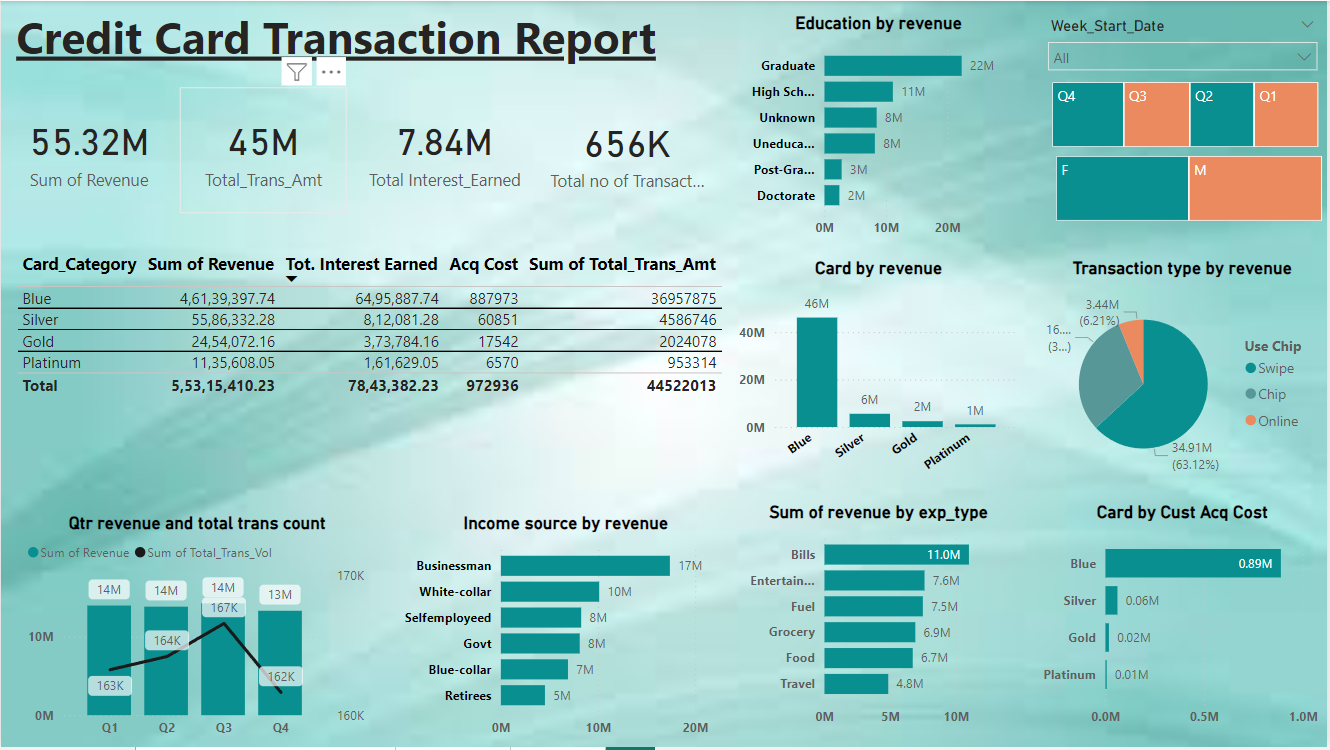

Layout of this report page (visuals, bound fields, positions):
{"tool":"powerbi","page":{"name":"Credit Card Transaction Report","canvas":[1280,720],"ordinal":0},"visuals":[{"type":"textbox","box":[9.8,0,675.8,70],"z":0},{"type":"lineStackedColumnComboChart","title":"Qtr revenue and total trans count","fields":{"Category":["credit_card.Qtr"],"Y":["Sum(credit_card.Revenue)"],"Y2":["Sum(credit_card.Total_Trans_Vol)"]},"box":[20.9,493.9,337.9,226.1],"z":1000},{"type":"barChart","title":"Sum of revenue by exp_type","fields":{"Category":["credit_card.Exp Type"],"Y":["Sum(credit_card.Total_Trans_Amt)"]},"box":[706.5,482.9,280.1,226.1],"z":2000},{"type":"barChart","title":"Education by revenue","fields":{"Y":["Sum(credit_card.Revenue)"],"Category":["customer.Education_Level"]},"box":[706.5,11.1,280.1,226.1],"z":3000},{"type":"barChart","title":"Income source by revenue","fields":{"Y":["Sum(credit_card.Revenue)"],"Category":["customer.Customer_Job"]},"box":[383.3,493.9,323.1,226.1],"z":4000},{"type":"barChart","title":"Card by Cust Acq Cost","fields":{"Y":["Sum(credit_card.Customer_Acq_Cost)"],"Category":["credit_card.Card_Category"]},"box":[1000.1,482.9,280.1,226.1],"z":5000},{"type":"columnChart","title":"Card by revenue","fields":{"Category":["credit_card.Card_Category"],"Y":["Sum(credit_card.Revenue)"]},"box":[706.5,247,280.1,226.1],"z":6000},{"type":"pieChart","title":"Transaction type by revenue","fields":{"Category":["credit_card.Use Chip"],"Y":["Sum(credit_card.Revenue)"]},"box":[1000.1,247,280.1,226.1],"z":7000},{"type":"tableEx","fields":{"Values":["credit_card.Card_Category","Sum(credit_card.Revenue)","Sum(credit_card.Interest_Earned)","Sum(credit_card.Customer_Acq_Cost)","Sum(credit_card.Total_Trans_Amt)"]},"box":[9.8,237.1,696.6,189.2],"z":8000},{"type":"card","fields":{"Values":["Sum(credit_card.Revenue)"]},"box":[9.8,83.5,151.1,121.6],"z":9000},{"type":"card","fields":{"Values":["Sum(credit_card.Total_Trans_Amt)"]},"box":[172,83.5,162.2,121.6],"z":10000},{"type":"card","fields":{"Values":["Sum(credit_card.Interest_Earned)"]},"box":[347.7,83.5,162.2,121.6],"z":11000},{"type":"card","fields":{"Values":["Sum(credit_card.Total_Trans_Vol)"]},"box":[523.4,84.8,162.2,121.6],"z":12000},{"type":"slicer","fields":{"Values":["credit_card.Week_Start_Date"]},"box":[1000.1,11.1,280.1,72.5],"z":13000},{"type":"treemap","fields":{"Group":["credit_card.Qtr"],"Values":["Avg(credit_card.Client_Num)"]},"box":[1009.9,73.7,266.6,72.5],"z":14000},{"type":"treemap","fields":{"Group":["customer.Gender"],"Values":["Avg(credit_card.Client_Num)"]},"box":[1013.6,145,266.6,72.5],"z":15000}]}

Visuals, with their boxes in screenshot pixels (x1, y1, x2, y2), scaled from the page's 1280x720 canvas onto the 1330x750 screenshot:
textbox: BBox(10, 0, 712, 73)
"Qtr revenue and total trans count" lineStackedColumnComboChart: BBox(22, 514, 373, 749)
"Sum of revenue by exp_type" barChart: BBox(734, 503, 1025, 739)
"Education by revenue" barChart: BBox(734, 12, 1025, 247)
"Income source by revenue" barChart: BBox(398, 514, 734, 749)
"Card by Cust Acq Cost" barChart: BBox(1039, 503, 1329, 739)
"Card by revenue" columnChart: BBox(734, 257, 1025, 493)
"Transaction type by revenue" pieChart: BBox(1039, 257, 1329, 493)
tableEx - credit_card.Card_Category x Sum(credit_card.Revenue): BBox(10, 247, 734, 444)
card - Sum(credit_card.Revenue): BBox(10, 87, 167, 214)
card - Sum(credit_card.Total_Trans_Amt): BBox(179, 87, 347, 214)
card - Sum(credit_card.Interest_Earned): BBox(361, 87, 530, 214)
card - Sum(credit_card.Total_Trans_Vol): BBox(544, 88, 712, 215)
slicer - credit_card.Week_Start_Date: BBox(1039, 12, 1329, 87)
treemap - credit_card.Qtr x Avg(credit_card.Client_Num): BBox(1049, 77, 1326, 152)
treemap - customer.Gender x Avg(credit_card.Client_Num): BBox(1053, 151, 1329, 227)
